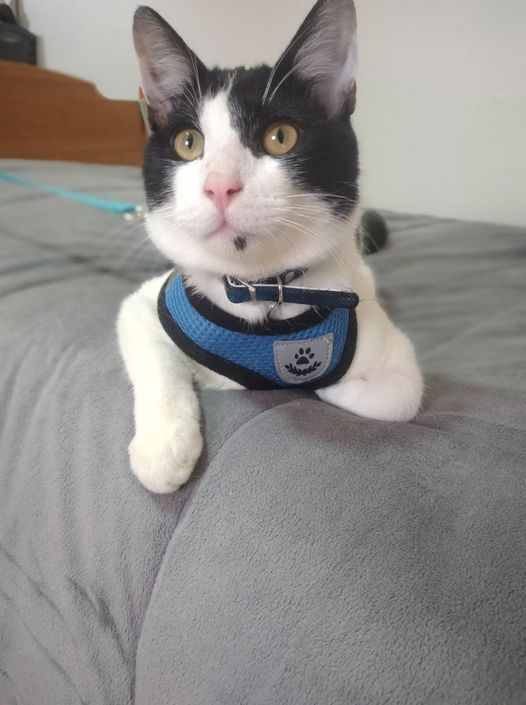cat: (90, 1, 429, 510)
